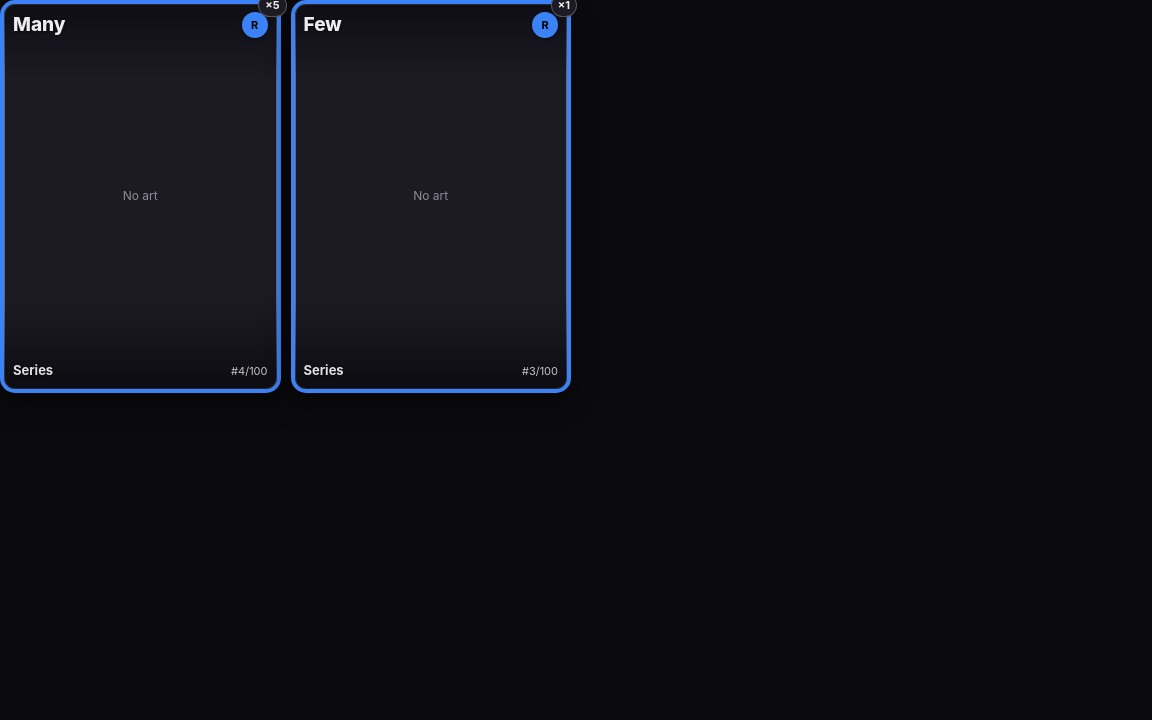
Test: SellTab and SellDialog › switches to auction with durations and starts an auction
This screenshot has width=1152, height=720.
Later steps or results of the test are not shown.
Click the button "No art Many R Series #4/100 ×5" at (140, 196), box [0,0,280,393]
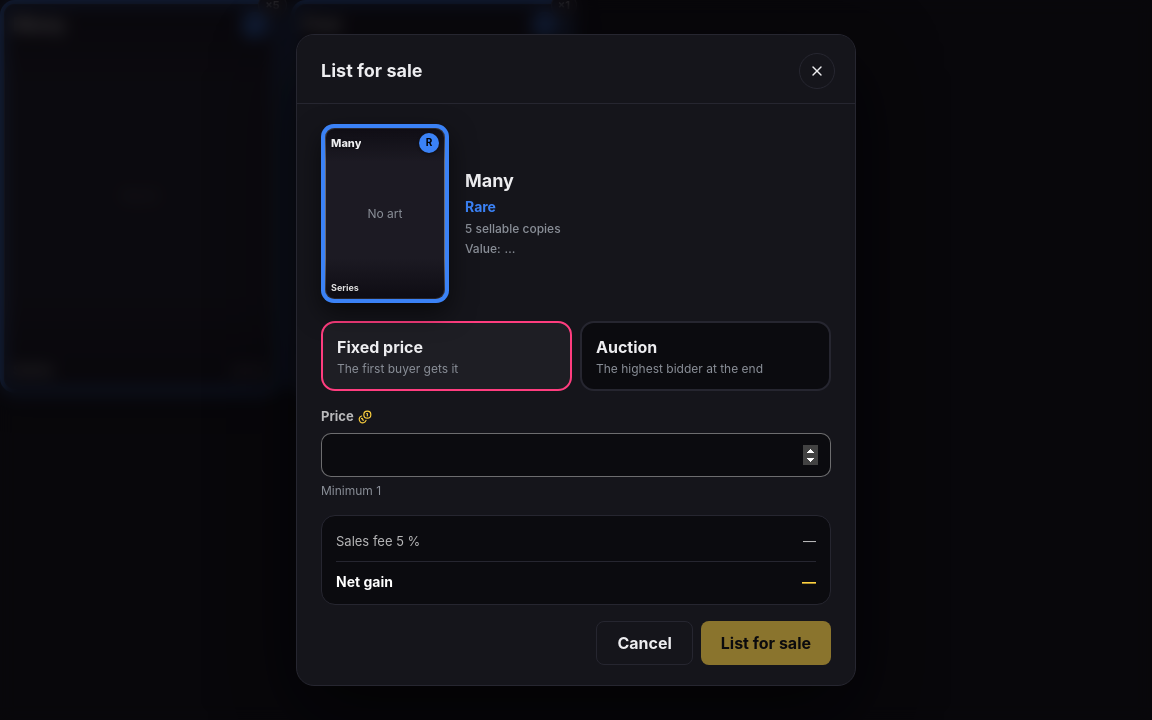
Click the radio button labelled "Auction" at (706, 356), box [580,321,831,391]
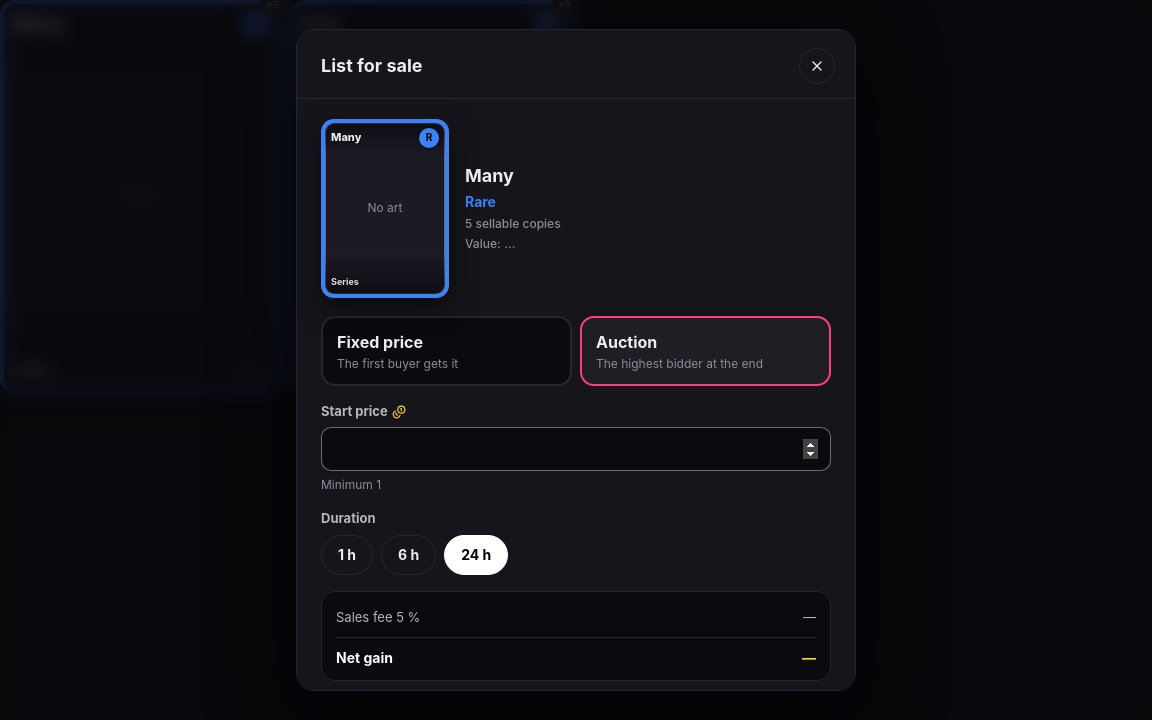
Check: the radio button labelled "1 h" is shown, box [321,535,373,575]
Check: the radio button labelled "6 h" is shown, box [381,535,436,575]
Check: the radio button labelled "24 h" is shown, box [444,535,508,575]
